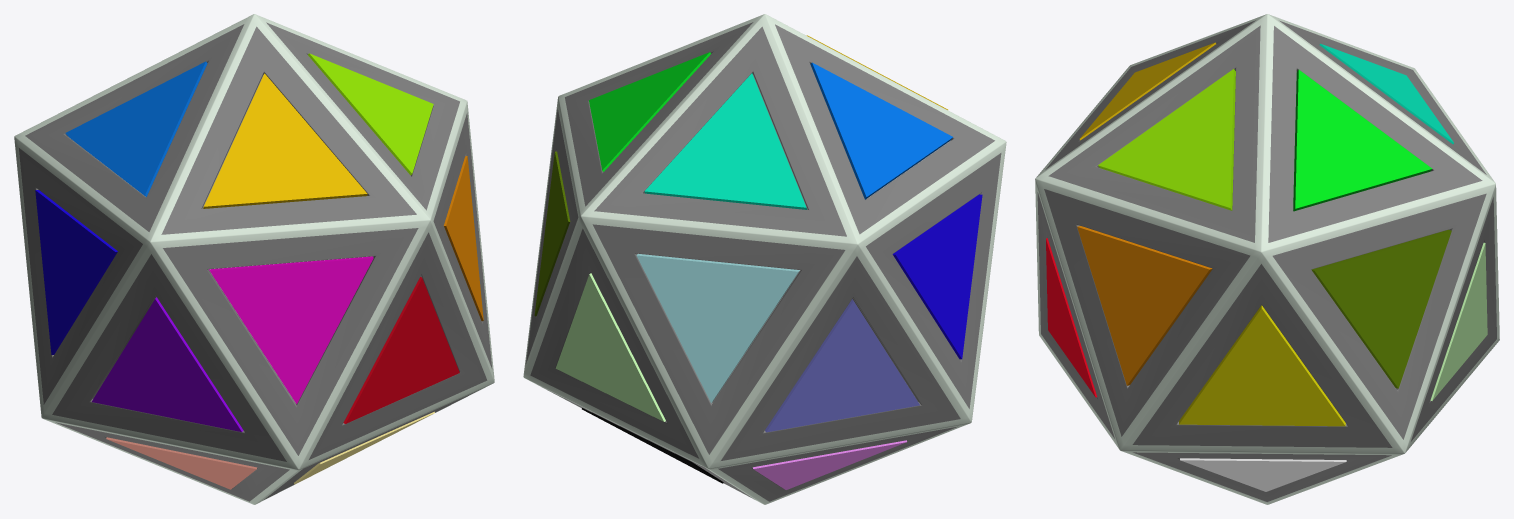
File: Ambianceur.fbx
3 views of the same model, side by side, from view 1: azimuth 30°, elevation 25°; view 2: azimuth 150°, elevation 25°; view 3: azimuth 270°, elevation 25° (orthographic).
Parts seen in each view (by area): view 1: Icosphere, Bouton.007, Bouton.017, Bouton.008, Bouton.016, Bouton.006, Bouton.009, Bouton.014, Bouton.005, Bouton.001, Bouton.004; view 2: Icosphere, Bouton.011, Bouton.018, Bouton.010, Bouton.016, Bouton.009, Bouton.012, Bouton.015, Bouton.020, Bouton.013, Bouton.002; view 3: Icosphere, Bouton.013, Bouton.019, Bouton.015, Bouton.005, Bouton.014, Bouton.012, Bouton.003, Bouton.018, Bouton.006, Bouton.017.
Boxes of the visible parts, <box> form: Icosphere: <box>14,14,494,504</box>; Bouton.007: <box>209,256,373,403</box>; Bouton.017: <box>203,73,367,208</box>; Bouton.008: <box>91,297,243,431</box>; Bouton.016: <box>65,61,207,196</box>; Bouton.006: <box>343,277,459,423</box>; Bouton.009: <box>35,190,117,354</box>; Bouton.014: <box>308,53,433,175</box>; Bouton.005: <box>443,156,483,321</box>; Bouton.001: <box>106,437,257,489</box>; Bouton.004: <box>294,411,434,484</box>; Icosphere: <box>523,14,1006,504</box>; Bouton.011: <box>636,254,799,402</box>; Bouton.018: <box>644,73,807,209</box>; Bouton.010: <box>765,299,919,432</box>; Bouton.016: <box>810,62,952,199</box>; Bouton.009: <box>892,194,982,359</box>; Bouton.012: <box>555,273,665,421</box>; Bouton.015: <box>589,52,711,171</box>; Bouton.020: <box>753,440,906,489</box>; Bouton.013: <box>534,151,570,316</box>; Bouton.002: <box>582,408,723,483</box>; Icosphere: <box>1035,14,1499,504</box>; Bouton.013: <box>1312,229,1451,388</box>; Bouton.019: <box>1179,305,1345,426</box>; Bouton.015: <box>1293,69,1432,211</box>; Bouton.005: <box>1077,226,1212,385</box>; Bouton.014: <box>1098,69,1235,210</box>; Bouton.012: <box>1430,242,1487,400</box>; Bouton.003: <box>1180,458,1346,491</box>; Bouton.018: <box>1319,43,1453,144</box>; Bouton.006: <box>1046,238,1097,397</box>; Bouton.017: <box>1079,42,1216,140</box>.
Bounding box in the file's own units: 66.48 × 63.77 × 74.3.
